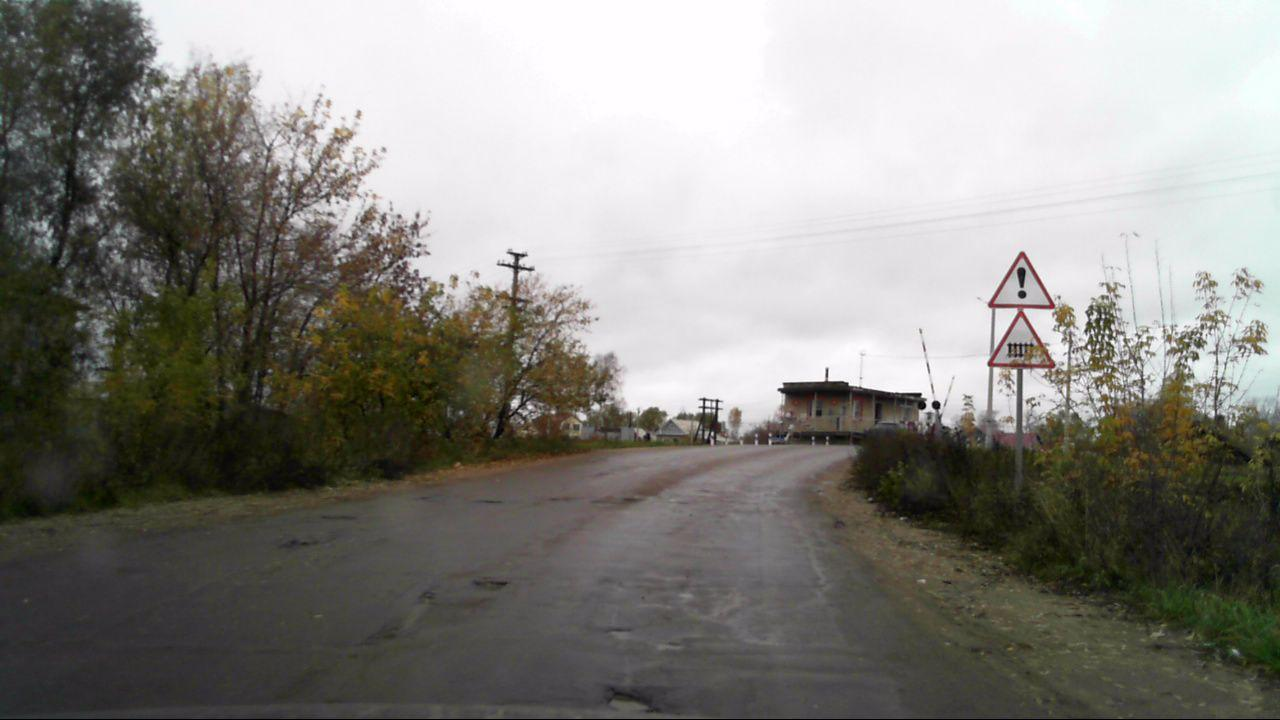1_1: (983, 311, 1056, 370)
1_33: (989, 250, 1055, 307)
